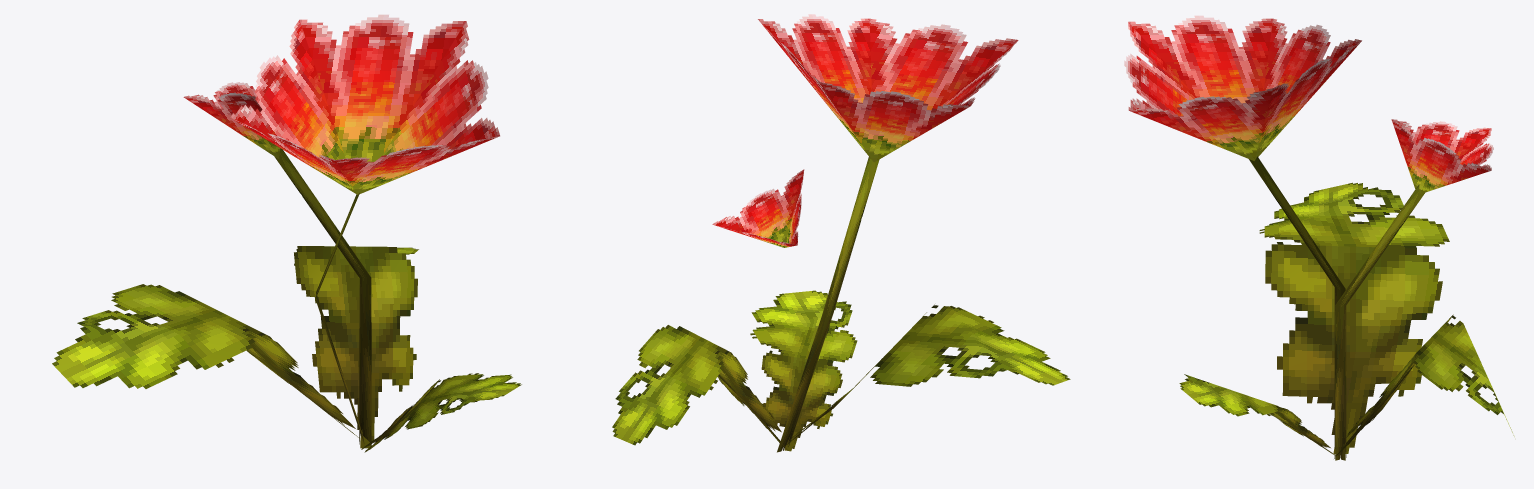
Rendered from elwynnflower01.obj.
3 renders of one model, left to right at view 1: azimuth 30°, elevation 25°; view 2: azimuth 150°, elevation 25°; view 3: azimuth 270°, elevation 25°, orthographic. The views are drawn at different scales.
Visible parts, largest first — view 1: Geoset0, Geoset1; view 2: Geoset0, Geoset1; view 3: Geoset0, Geoset1.
Part boxes in pixels (x1,y1,x2,y2): Geoset0: (52,148,521,452); Geoset1: (183,14,499,194); Geoset0: (612,156,1070,452); Geoset1: (712,14,1018,247); Geoset0: (1179,156,1514,460); Geoset1: (1124,15,1493,194).
Bounding box in the file's own units: 0.9239 × 0.8984 × 0.7886.
Materials: 2 (2 with a texture image).
